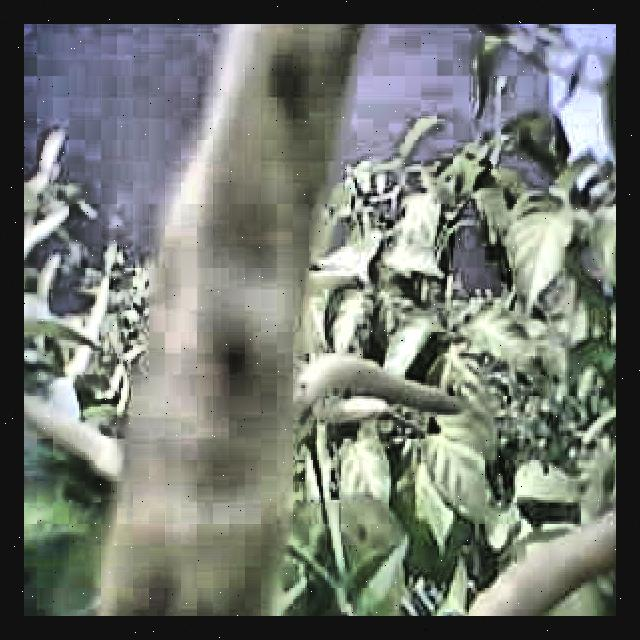Cabai: (82, 24, 328, 616), (450, 489, 616, 616), (305, 344, 465, 425)
